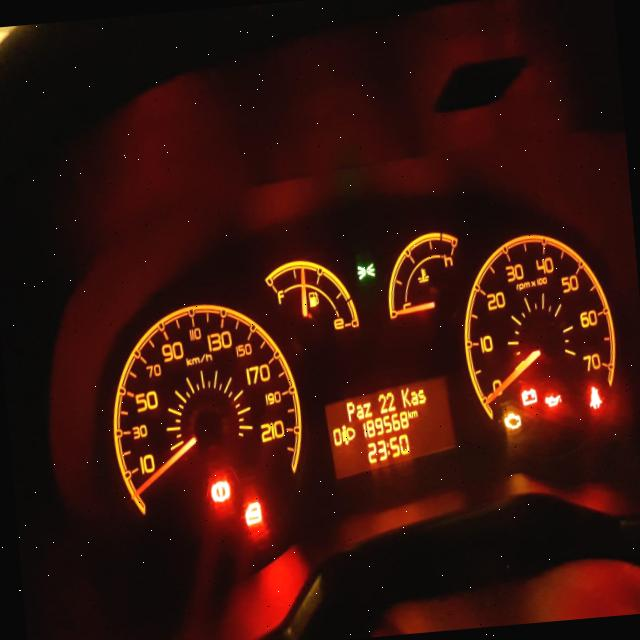odometer: (320, 372, 461, 482)
